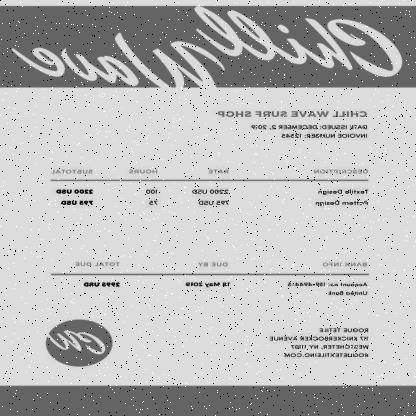Paragraph: (10, 6, 408, 90), (214, 106, 372, 144), (267, 324, 373, 360), (284, 258, 372, 298), (181, 258, 238, 290), (72, 259, 126, 291)
Table: (47, 164, 375, 212)
